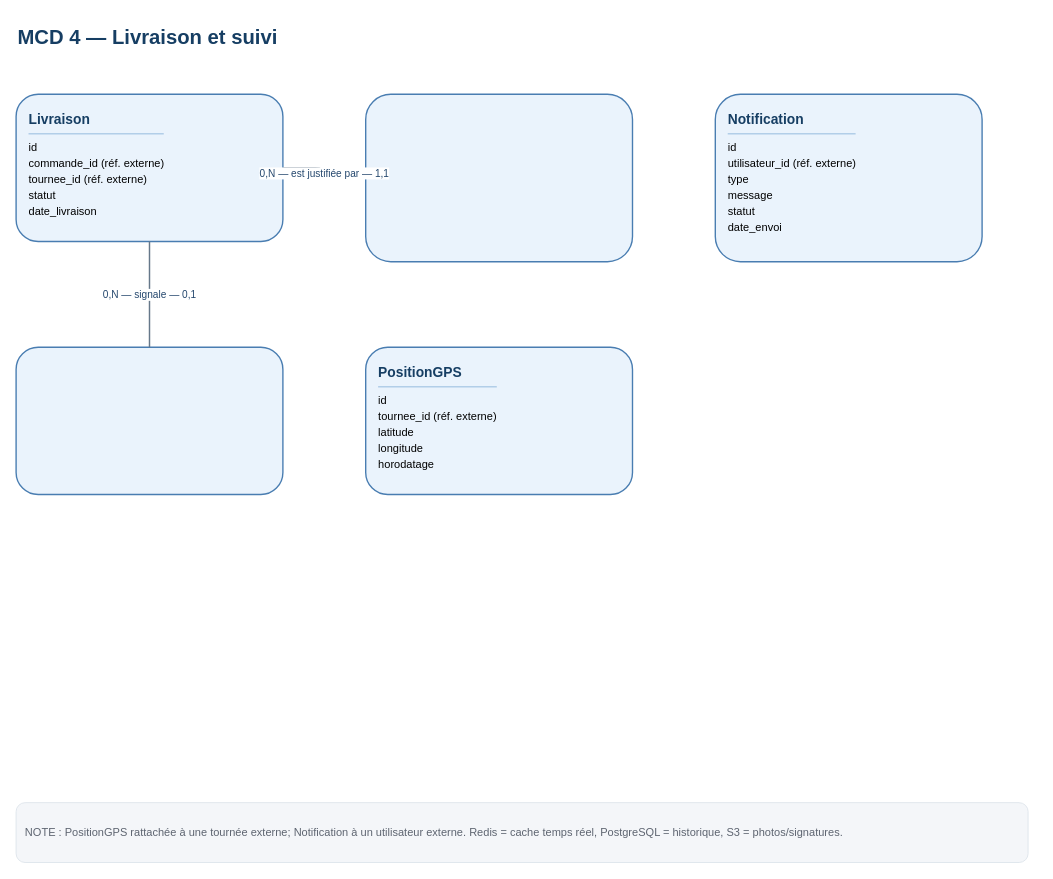
Some shapes in this 1053 by 879 pixel diagram are drawn without their labels. The shapes that lost their labels are listed below. From the top down, each one's centre as x and y in pixels, then its label:
point (499, 177): PreuveLivraison id signature_url photo_url date_validation latitude longitude
point (149, 420): Incident id type description date_signalement statut
